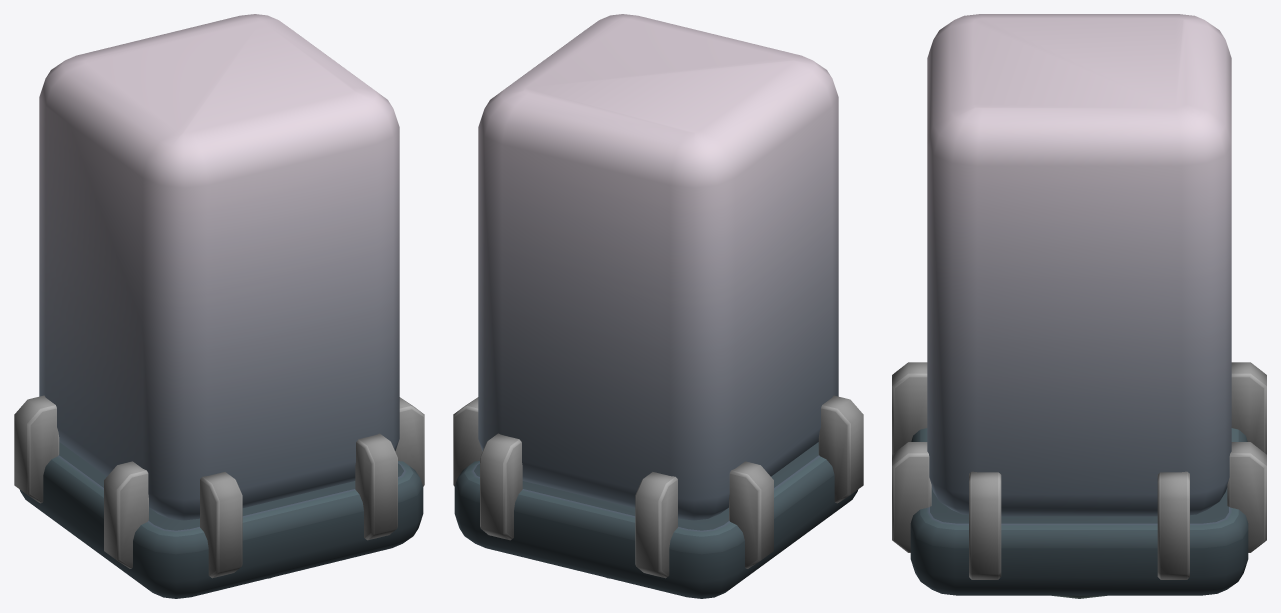
The model's file is sp_food_grower_can_potato.fbx.
The picture shows the model from 3 angles, left to right: view 1: azimuth 30°, elevation 25°; view 2: azimuth 150°, elevation 25°; view 3: azimuth 270°, elevation 25°; orthographic projection. The views are drawn at different scales.
Visible parts, largest first — view 1: food_canister_potato; view 2: food_canister_potato; view 3: food_canister_potato.
Boxes of the visible parts, x1,y1,x2,y2 form: food_canister_potato: [14, 14, 424, 598]; food_canister_potato: [453, 14, 863, 598]; food_canister_potato: [892, 14, 1266, 598].
Size of the model in its own units: 52.23 by 78.42 by 52.23.
